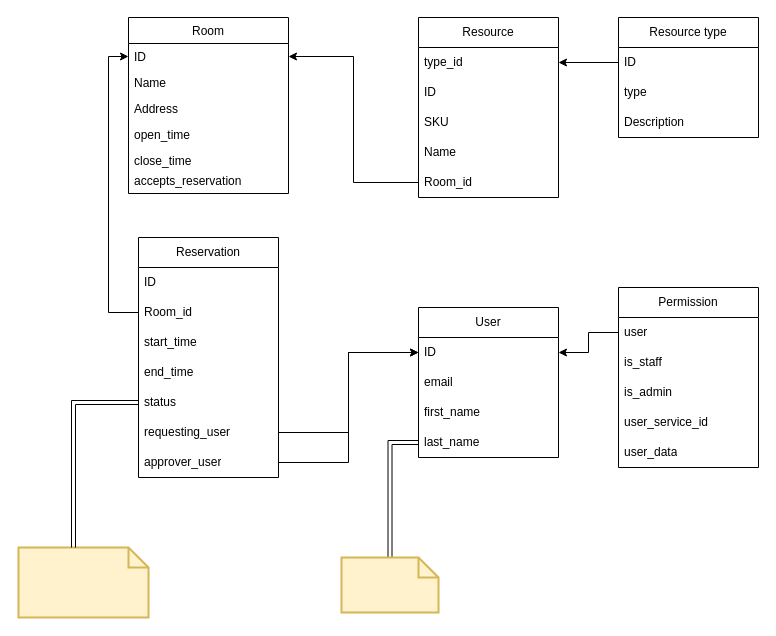
Image size: 776x636. Some labels were removed from this diagram. Here are the shapes that lost their labels. From the top down, the centre of each, then its label:
At pixel 83 582: "APPROVED DENIED REVIEW_PENDING".
At pixel 389 584: "USER STAFF ADMIN".
